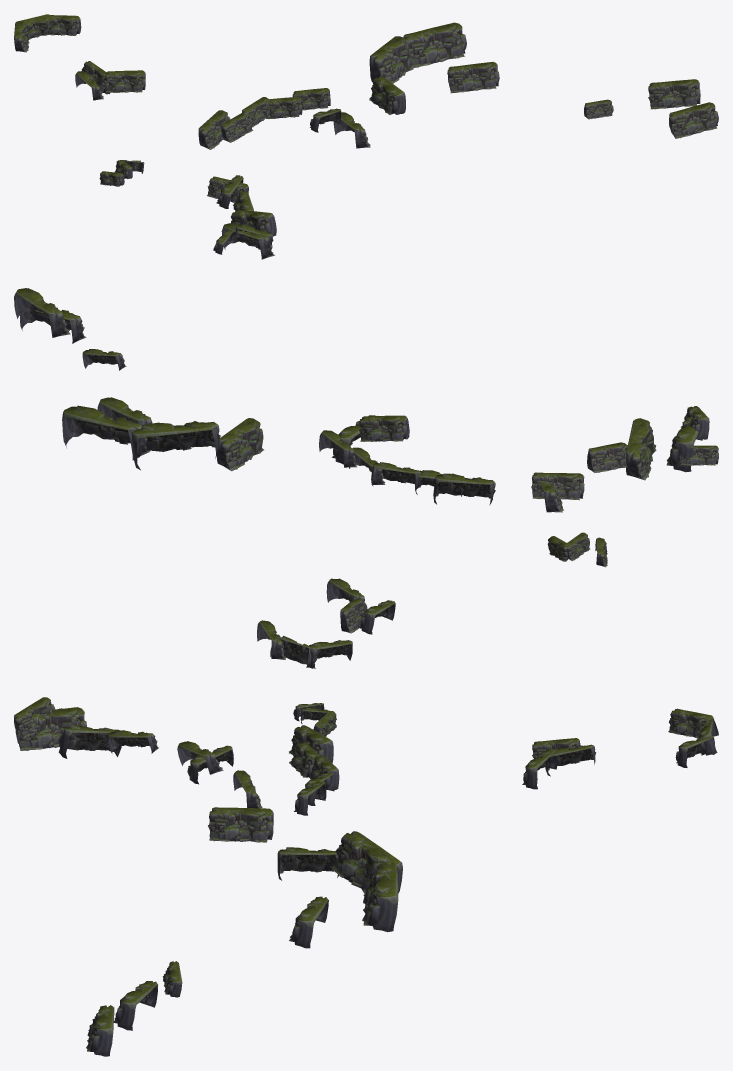
Rendered from RockBlockTwo.FBX.
3 views of the same model, one above another, from view 1: azimuth 30°, elevation 25°; view 2: azimuth 150°, elevation 25°; view 3: azimuth 270°, elevation 25° (orthographic). The views are drawn at different scales.
Visible parts, largest first — view 1: CliffWallLowPoly007; view 2: CliffWallLowPoly007; view 3: CliffWallLowPoly007.
Boxes of the visible parts, box(x1,y1,x2,y2) form: CliffWallLowPoly007: box(14, 14, 718, 259); CliffWallLowPoly007: box(14, 288, 718, 668); CliffWallLowPoly007: box(14, 697, 718, 1056).
Bounding box in the file's own units: 1215 × 127 × 1091.
